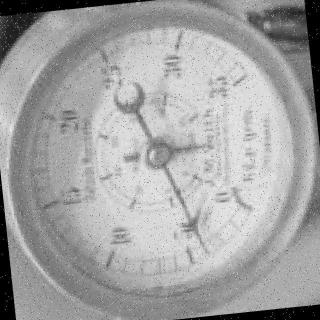gauge: (0, 0, 320, 320), (209, 177, 263, 223), (206, 62, 258, 108), (135, 135, 178, 170), (197, 238, 216, 260), (194, 142, 212, 152)
